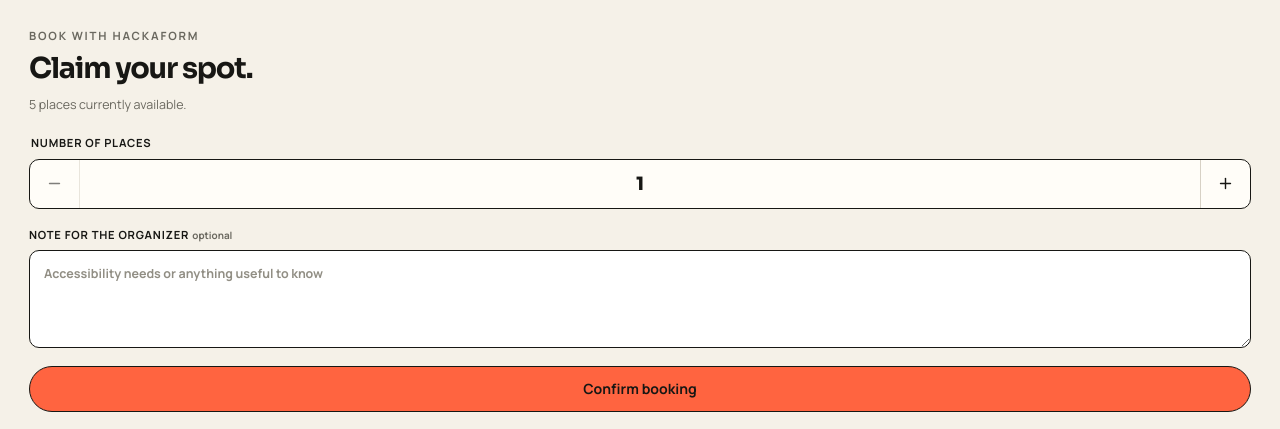
Test case: BookingPanel › creates a booking with the selected quantity and organizer note
Expected: the heading "Claim your spot." is shown, [29,50,252,86]
Click the button named "add one place" at {"x": 1225, "y": 184}, box [1200,160,1250,208]
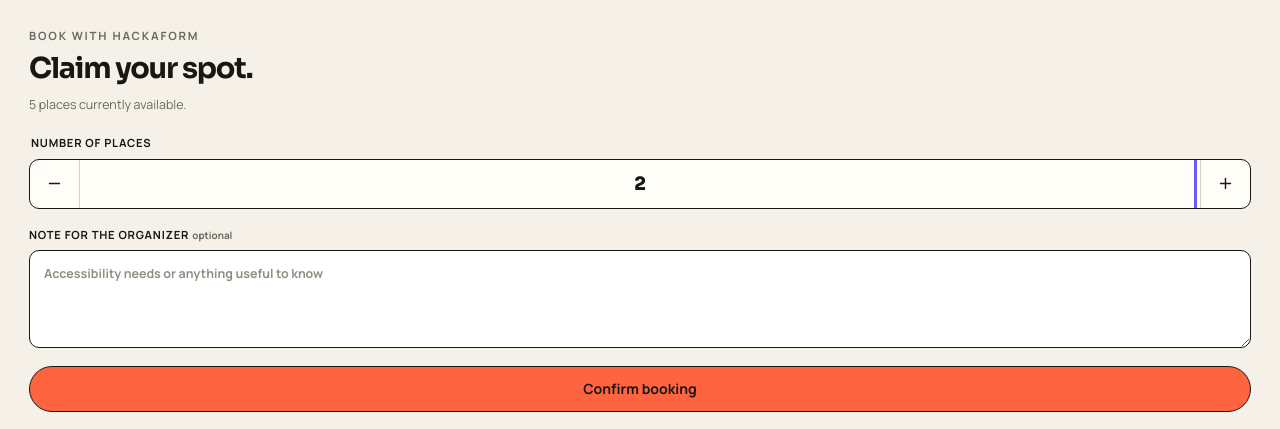
Type "  Wheelchair access, please  " into the text box labelled "Note for the organizer optional" at {"x": 640, "y": 299}, box [29,250,1251,348]
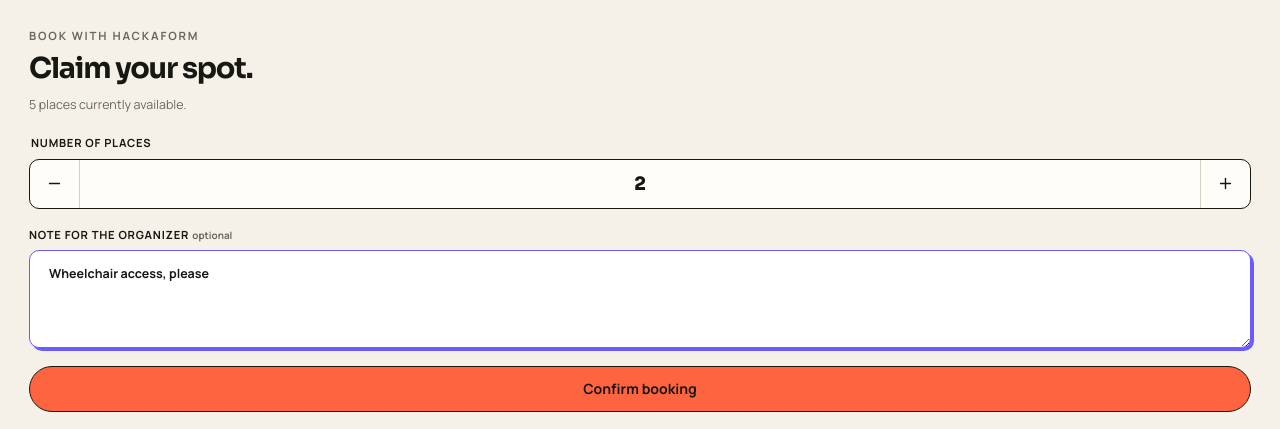
Click the button "Confirm booking" at {"x": 640, "y": 389}, box [29,366,1251,412]
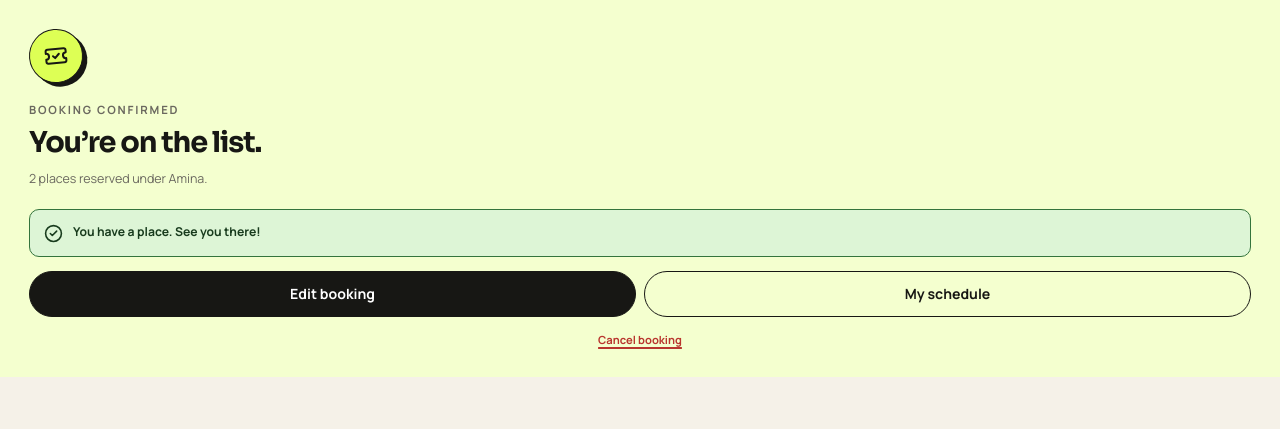
Result: the heading "You’re on the list." is shown at [29,124,261,160]
Result: the text "2 places reserved under Amina." is shown at [29,170,208,187]
Result: the text "You have a place. See you there!" is shown at [73,223,261,241]
